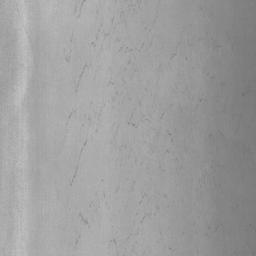Silk spot: (74, 64, 92, 93), (118, 43, 144, 53), (74, 0, 86, 17), (79, 212, 90, 228), (70, 165, 78, 186), (128, 113, 138, 128)
